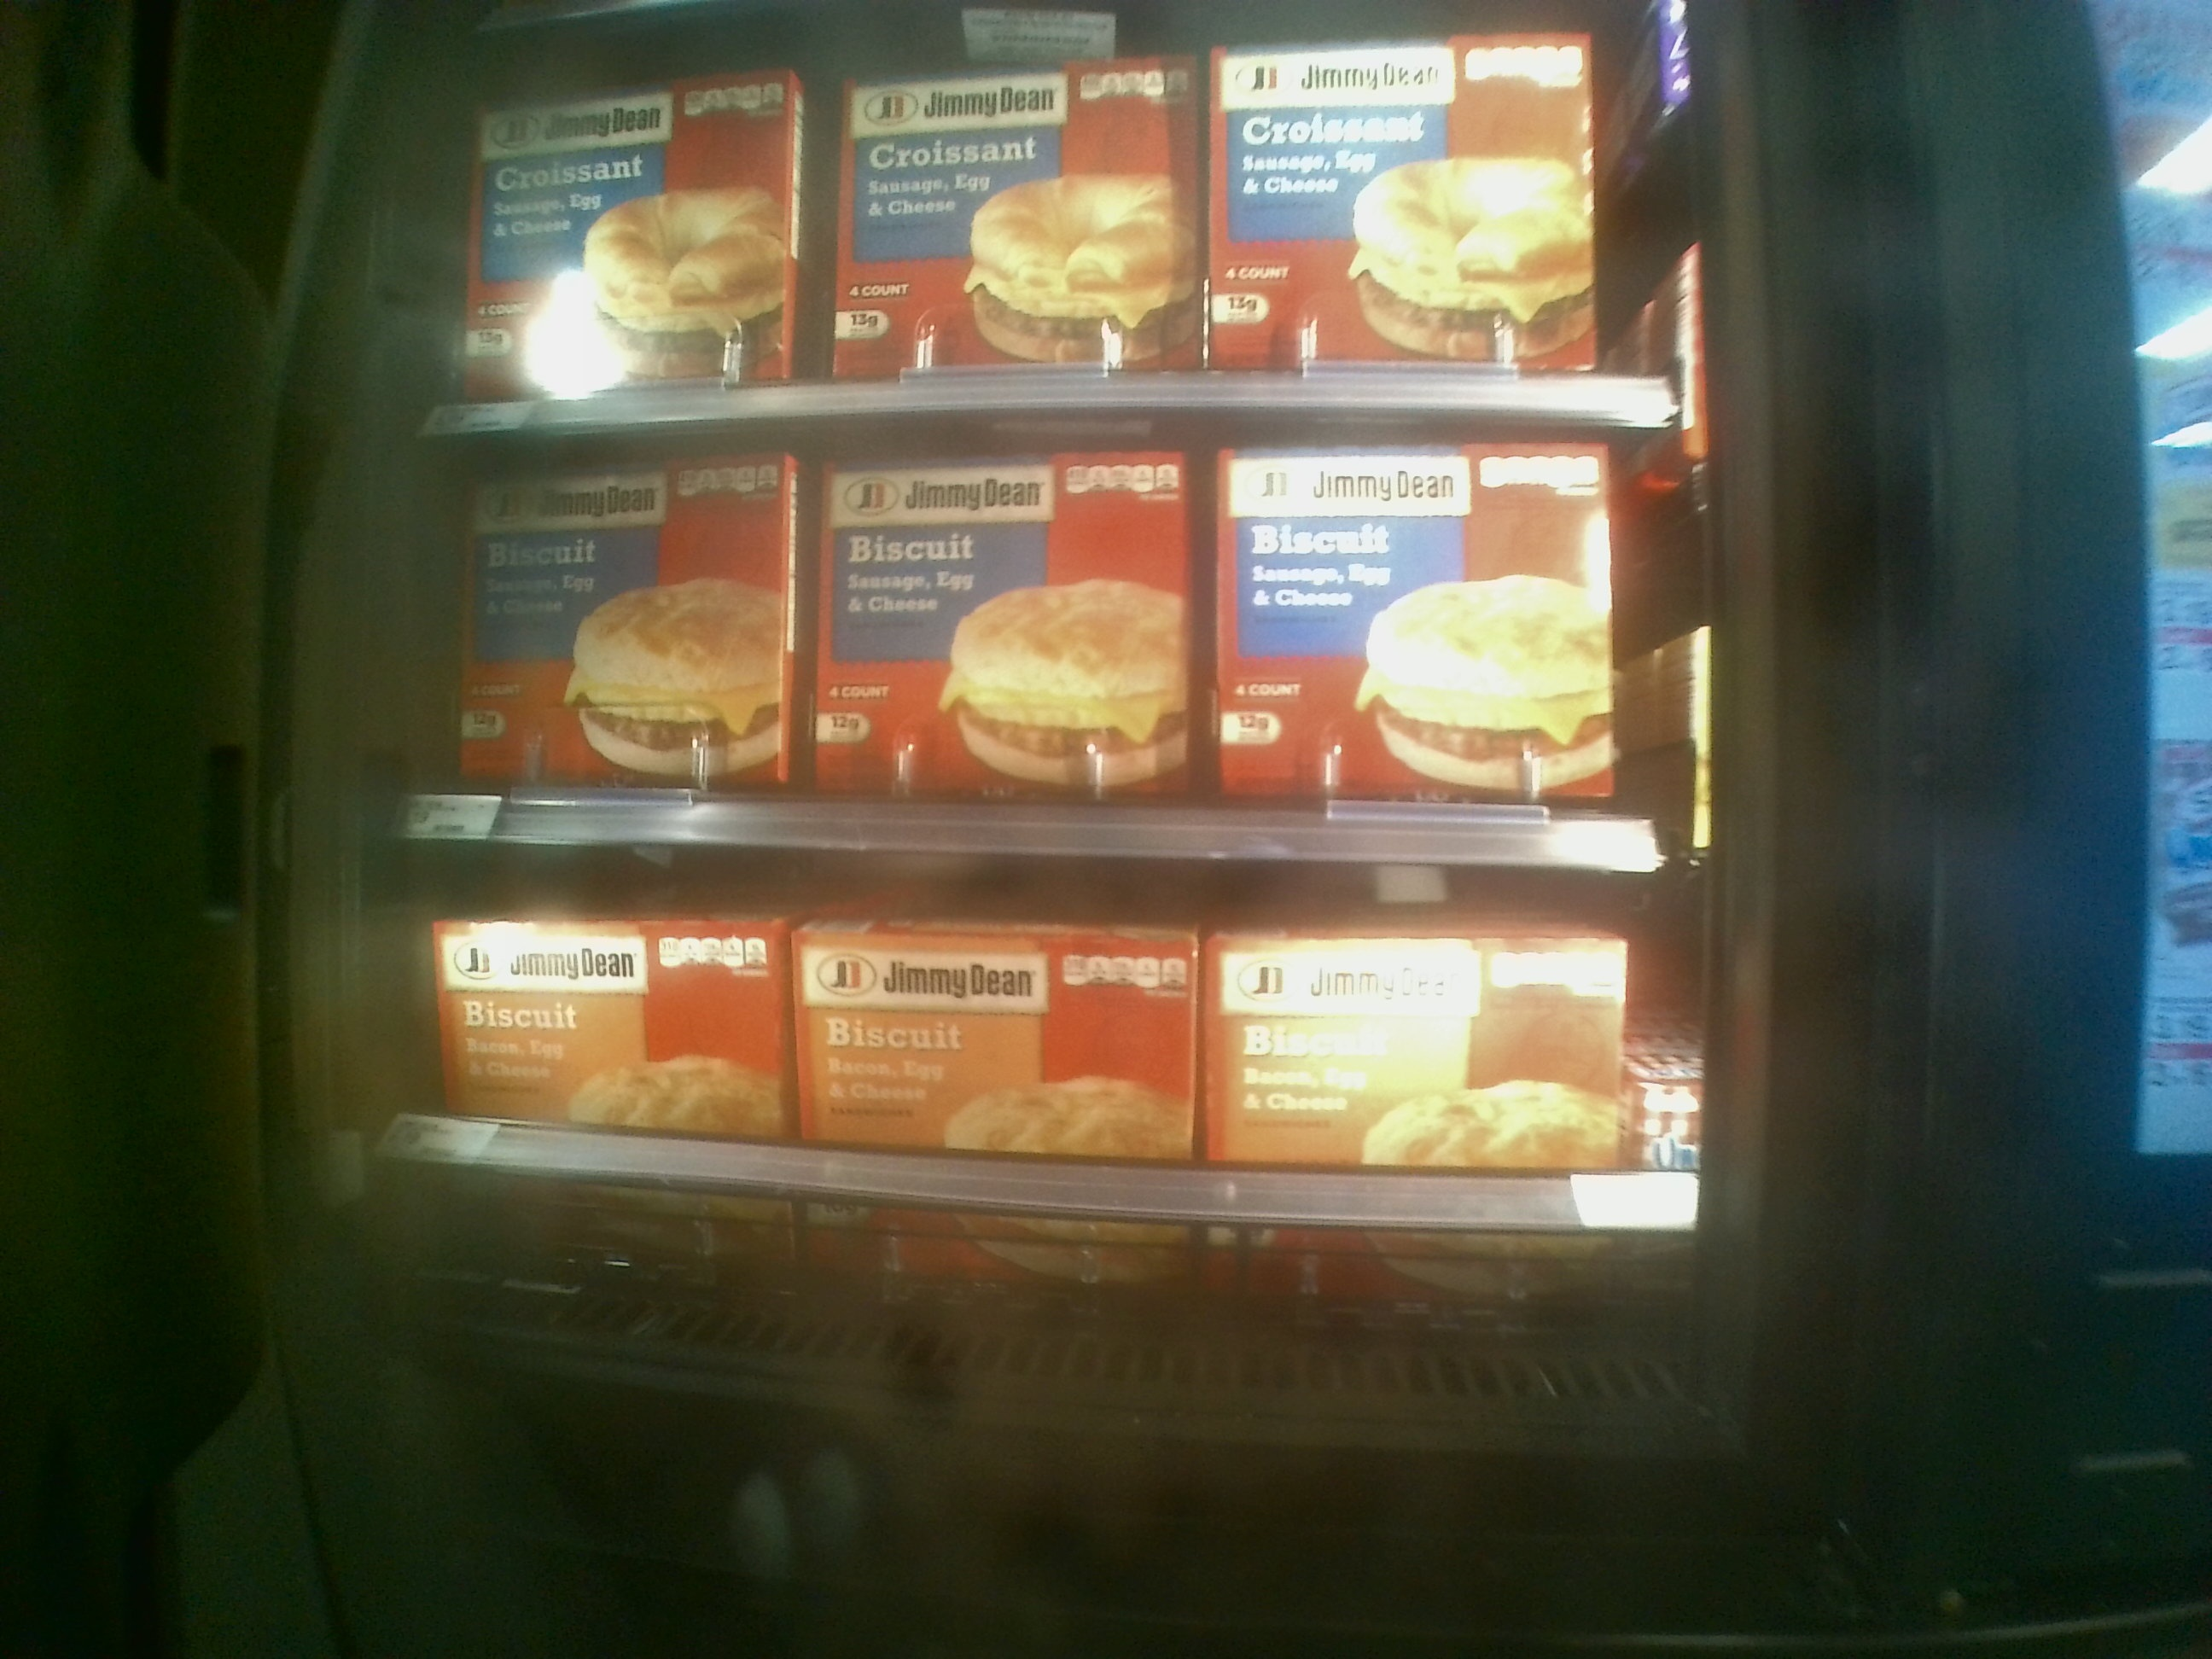shelf: (401, 842, 1719, 1331), (399, 404, 1702, 887)
